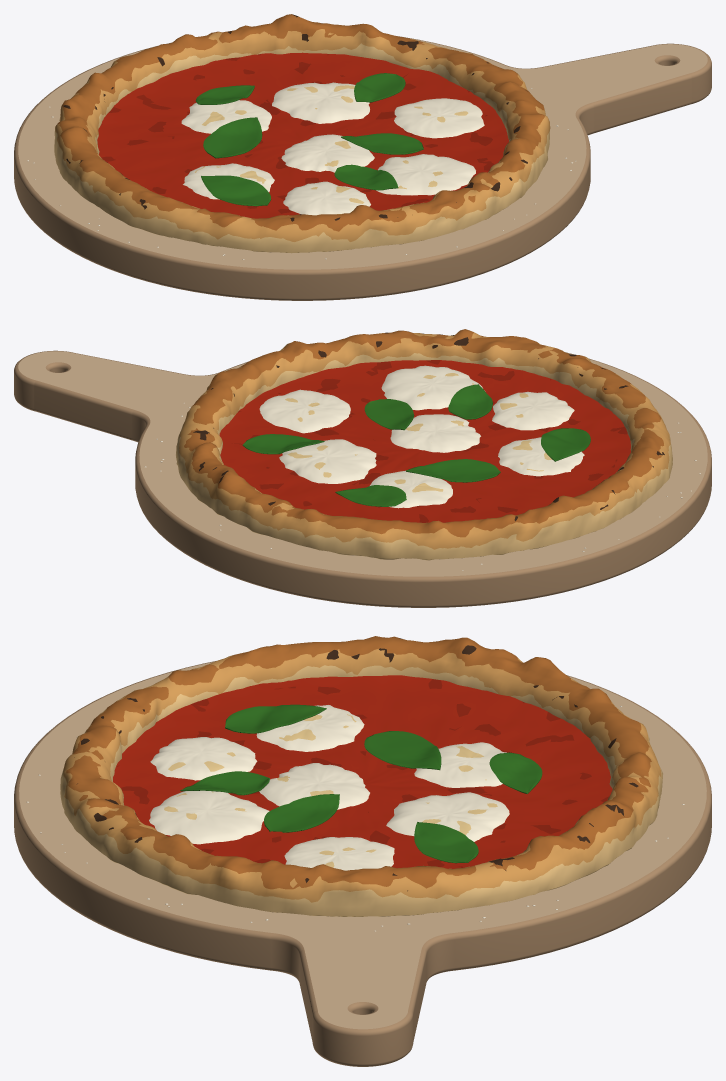
The model's file is pizza-margherita.glb.
3 views of the same model, one above another, from view 1: azimuth 30°, elevation 25°; view 2: azimuth 150°, elevation 25°; view 3: azimuth 270°, elevation 25° (orthographic). The views are drawn at different scales.
Visible parts, largest first — view 1: sauce_tomate, bois_planche, bois_chant, mozzarella, pate_brune, pate_doree, pate_claire, basilic, sauce_tomate_reduite, mozzarella_gratinee, pate_grillee; view 2: sauce_tomate, bois_planche, bois_chant, mozzarella, pate_brune, pate_doree, pate_claire, basilic, sauce_tomate_reduite, mozzarella_gratinee, pate_grillee; view 3: sauce_tomate, bois_planche, bois_chant, pate_brune, mozzarella, pate_doree, pate_claire, basilic, sauce_tomate_reduite, mozzarella_gratinee, pate_grillee.
Part boxes in pixels (x1,y1,x2,y2): sauce_tomate: (97,52,508,218); bois_planche: (18,39,707,269); bois_chant: (14,36,711,300); mozzarella: (181,82,484,215); pate_brune: (57,14,544,231); pate_doree: (55,27,550,241); pate_claire: (54,43,549,253); basilic: (195,73,423,206); sauce_tomate_reduite: (101,54,494,213); mozzarella_gratinee: (195,85,468,203); pate_grillee: (63,14,527,221); sauce_tomate: (219,360,630,522); bois_planche: (18,351,707,576); bois_chant: (14,350,711,607); mozzarella: (259,365,584,508); pate_brune: (184,329,663,537); pate_doree: (179,330,670,549); pate_claire: (176,353,672,560); basilic: (242,384,590,506); sauce_tomate_reduite: (232,360,627,522); mozzarella_gratinee: (285,373,551,492); pate_grillee: (193,332,664,521); sauce_tomate: (113,675,612,868); bois_planche: (19,662,706,1029); bois_chant: (14,661,711,1066); pate_brune: (66,636,651,889); mozzarella: (149,705,509,870); pate_doree: (63,648,661,902); pate_claire: (60,665,662,916); basilic: (180,704,542,863); sauce_tomate_reduite: (116,679,608,867); mozzarella_gratinee: (164,714,497,867); pate_grillee: (74,638,638,891).
Bounding box in the file's own units: 0.445 × 0.044 × 0.34.
